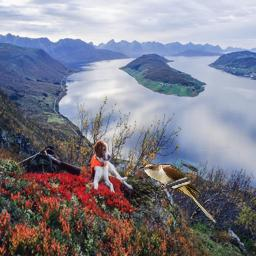Cuckoo: (138, 163, 218, 224)
